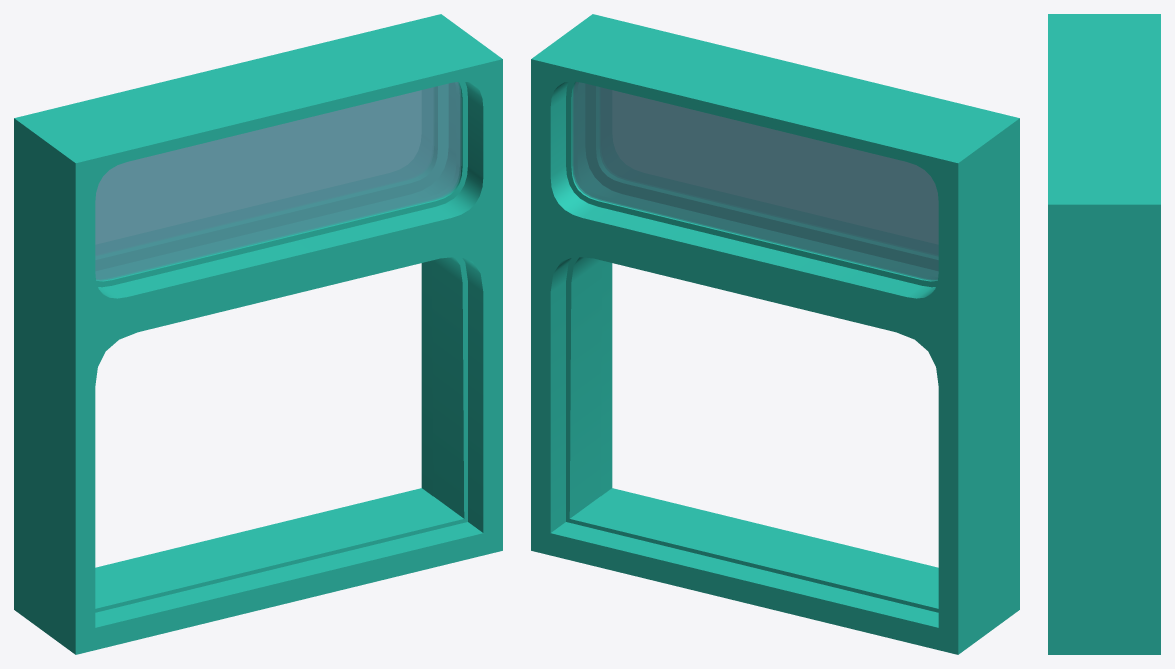
Rendered from Rooms_Wall_Separator_B_Door.FBX.
The picture shows the model from 3 angles, left to right: view 1: azimuth 30°, elevation 25°; view 2: azimuth 150°, elevation 25°; view 3: azimuth 270°, elevation 25°; orthographic projection. The views are drawn at different scales.
Visible parts, largest first — view 1: Rooms_Wall_Separator_B_Door; view 2: Rooms_Wall_Separator_B_Door; view 3: Rooms_Wall_Separator_B_Door.
Boxes of the visible parts, x1,y1,x2,y2 form: Rooms_Wall_Separator_B_Door: (14, 14, 502, 654); Rooms_Wall_Separator_B_Door: (531, 14, 1019, 654); Rooms_Wall_Separator_B_Door: (1048, 14, 1160, 654).
Size of the model in its own units: 400 by 440 by 100.
